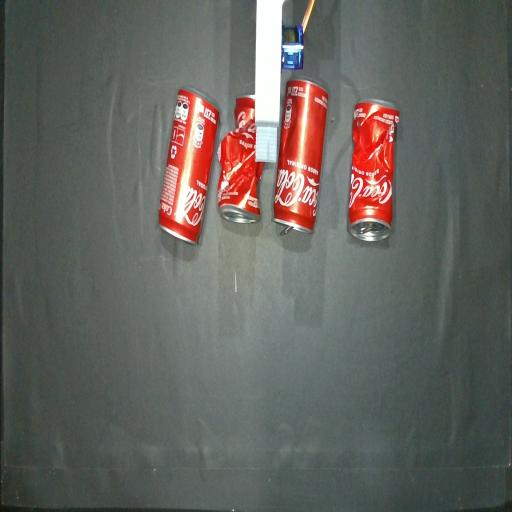lata: (159, 89, 219, 244), (273, 79, 328, 235)
lata_defectuoso: (347, 100, 399, 240), (218, 95, 264, 223)
